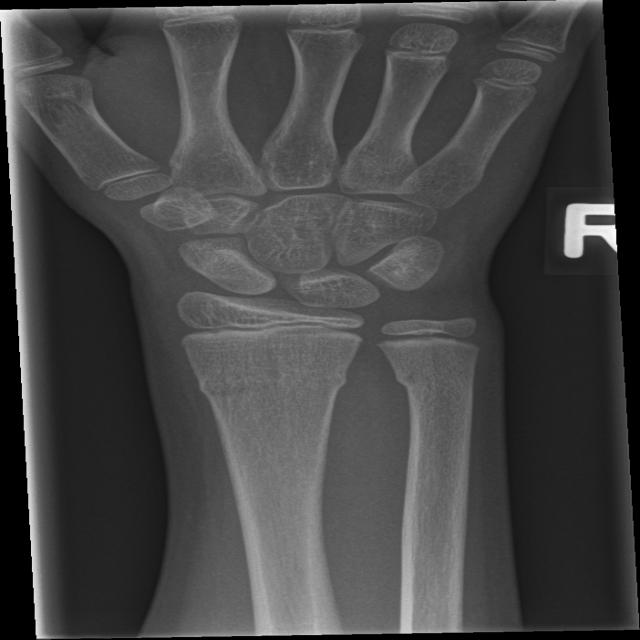radius fracture: (185, 348, 359, 437)
ulna fracture: (374, 343, 450, 418)
